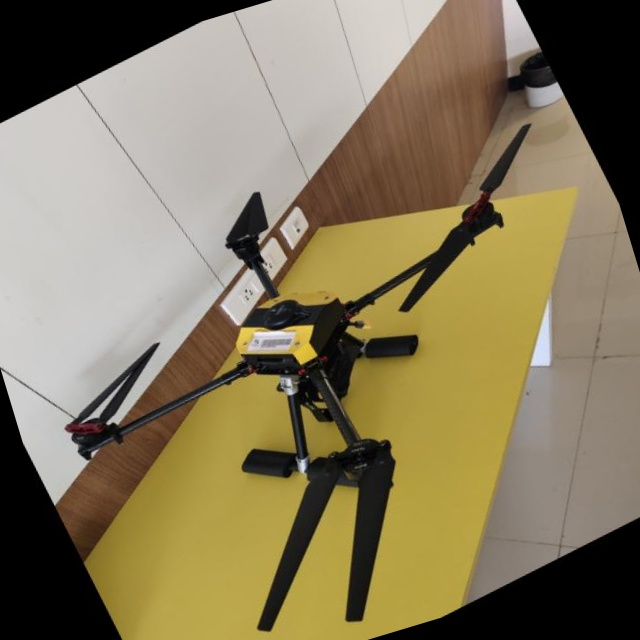quadcopter: (0, 40, 640, 640)
